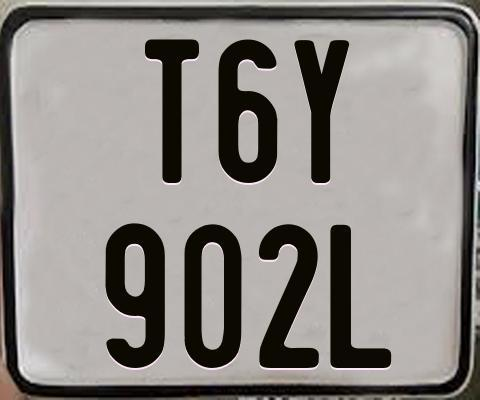0: (181, 222, 245, 368)
2: (256, 221, 320, 371)
6: (217, 36, 282, 181)
9: (103, 223, 166, 374)
L: (329, 222, 392, 371)
T: (143, 37, 203, 183)
Y: (292, 40, 350, 186)
